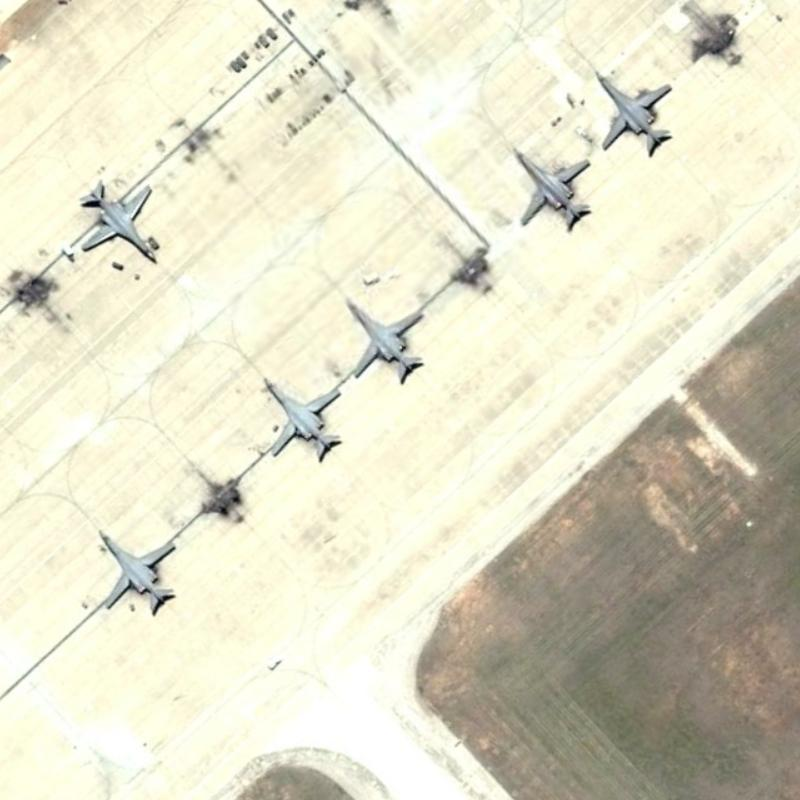A10: (87, 506, 184, 620), (255, 370, 353, 472), (71, 173, 172, 270), (498, 139, 596, 236), (341, 287, 435, 388), (588, 66, 686, 160)
